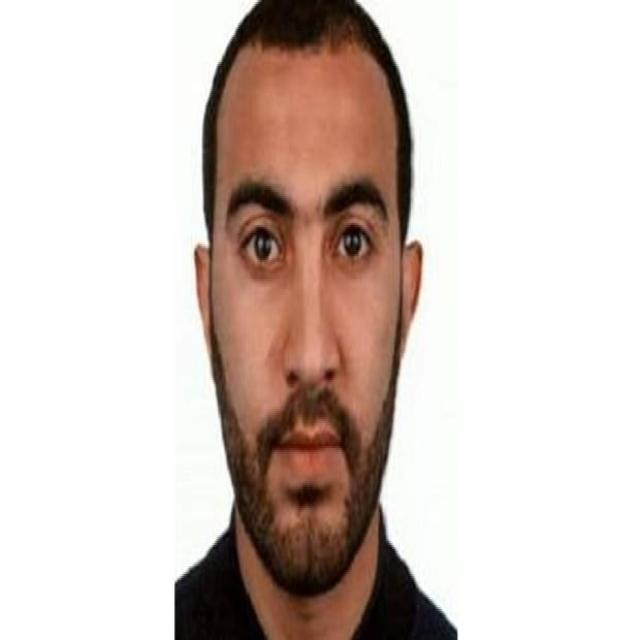human: (184, 3, 472, 640)
